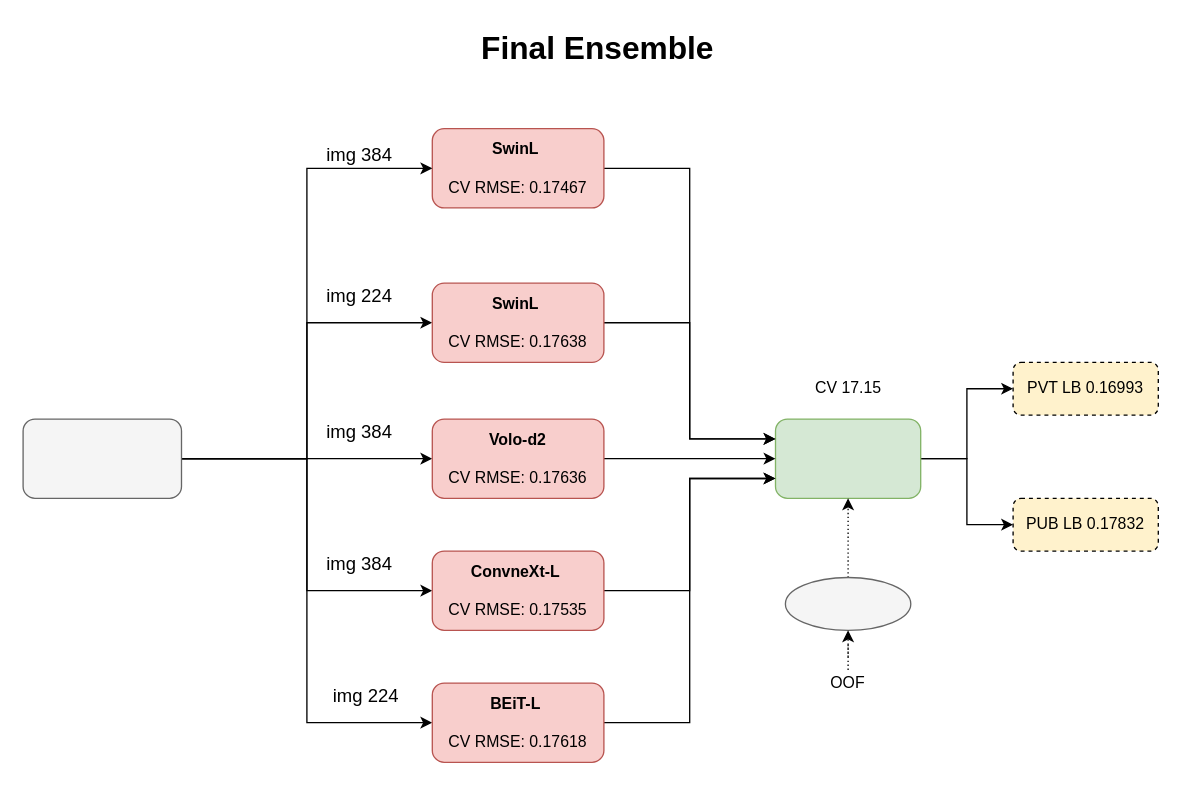
Image size: 1195x785. Some labels were removed from this diagram. The centre of each missing label's shape, as x and y in pixels:
"Ridge" belongs at [847,603].
"Train data (9985 images)" belongs at [102,458].
"Weighted Ensemble" belongs at [847,458].
